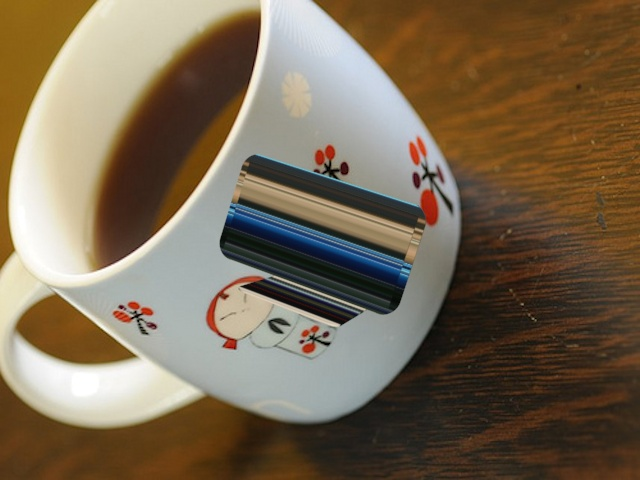monitor: (209, 145, 433, 337)
